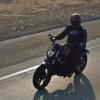Motorcycle: (28, 30, 97, 94)
